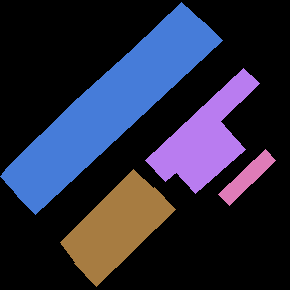parkingspot: (0, 2, 205, 197), (17, 22, 222, 214), (145, 68, 259, 181), (74, 187, 175, 286), (60, 169, 154, 265), (174, 129, 245, 193), (218, 149, 275, 205)
